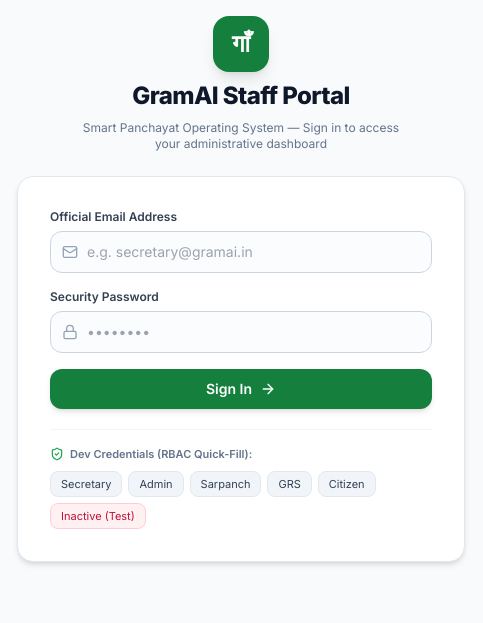
Scenario: LoginPage Component › displays client-side validation errors when submitting invalid inputs
This screenshot has width=483, height=623.
Click the button "Sign In".
click(241, 389)  # box [50,369,432,409]
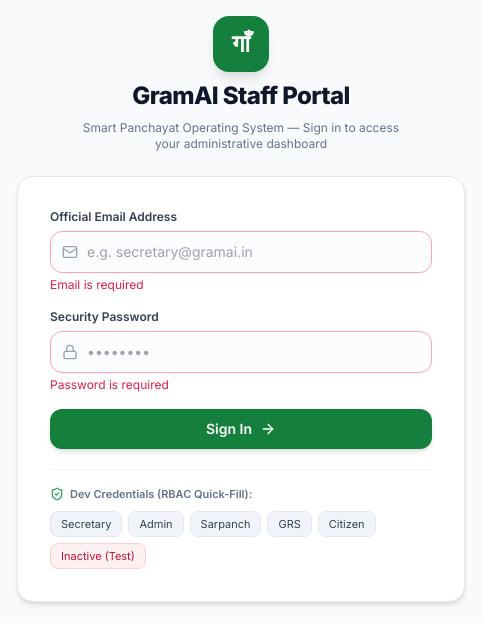
Expected: the text "Email is required" is shown, [50,277,144,292]
Expected: the text "Password is required" is shown, [50,377,169,392]
